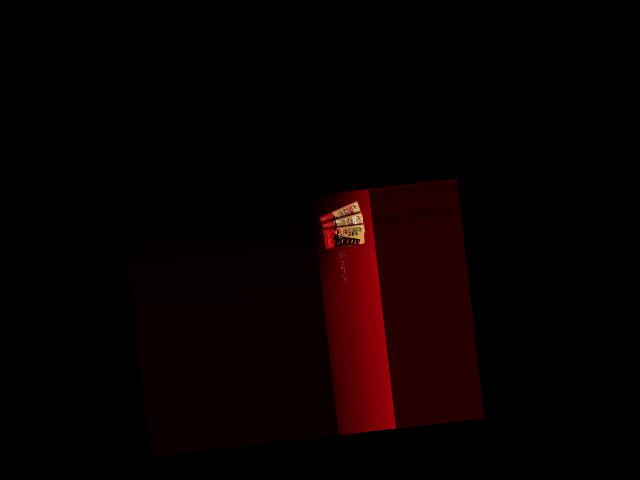chocolate: (315, 200, 364, 227)
